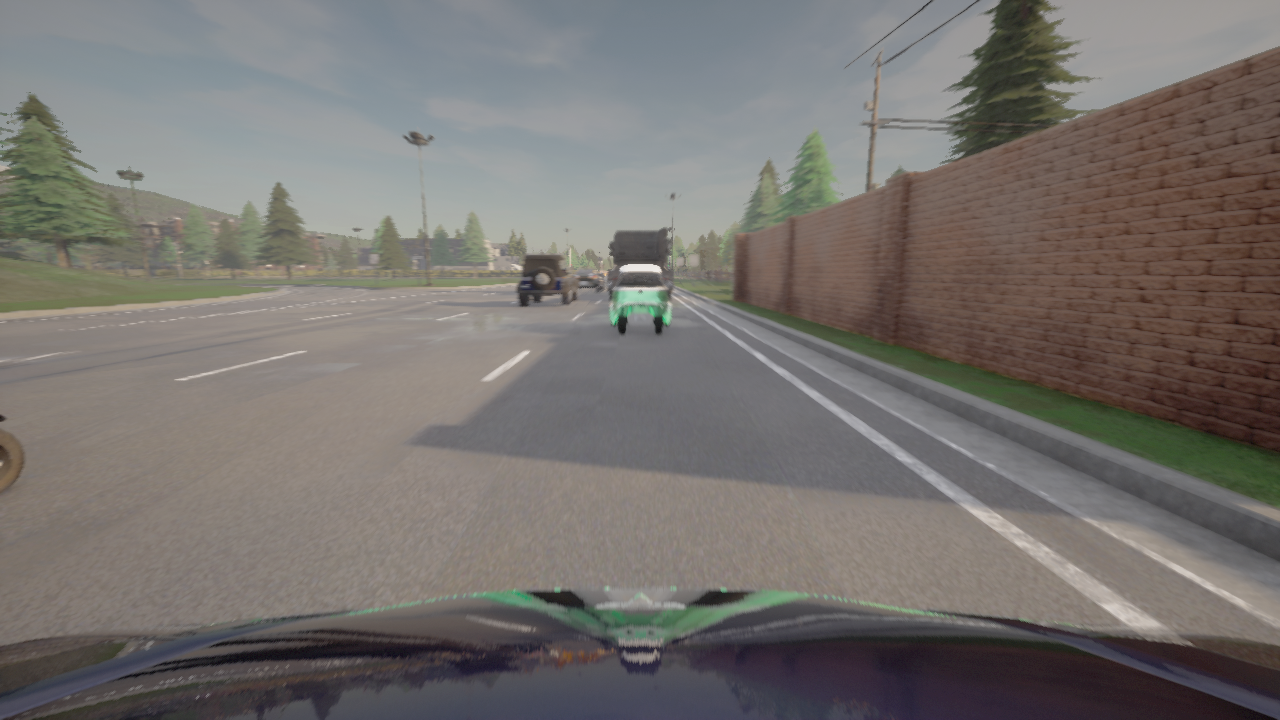cyclist: (0, 588, 1279, 719), (608, 228, 672, 300), (607, 265, 672, 334), (517, 254, 578, 305), (571, 268, 603, 291)
